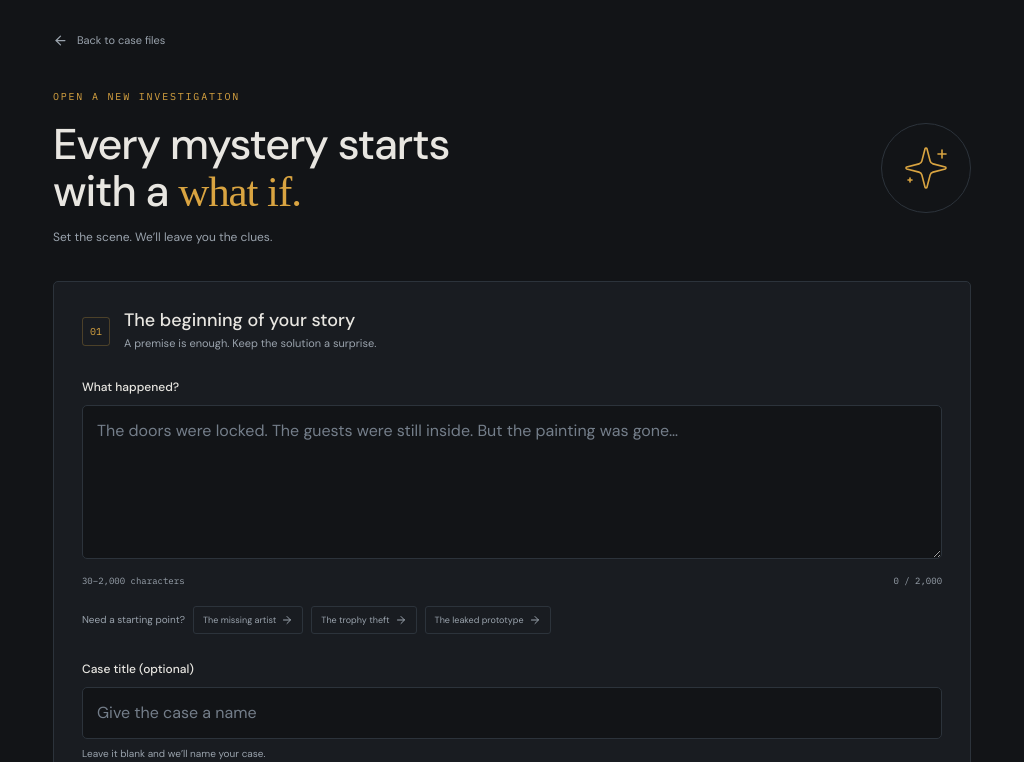
Test case: M3 forms › FR-10 examples populate the scenario and difficulty changes the suspect default
Step 1. Click the button "The missing artist" → (248, 620), box [193, 606, 303, 634]
(page scrolled)
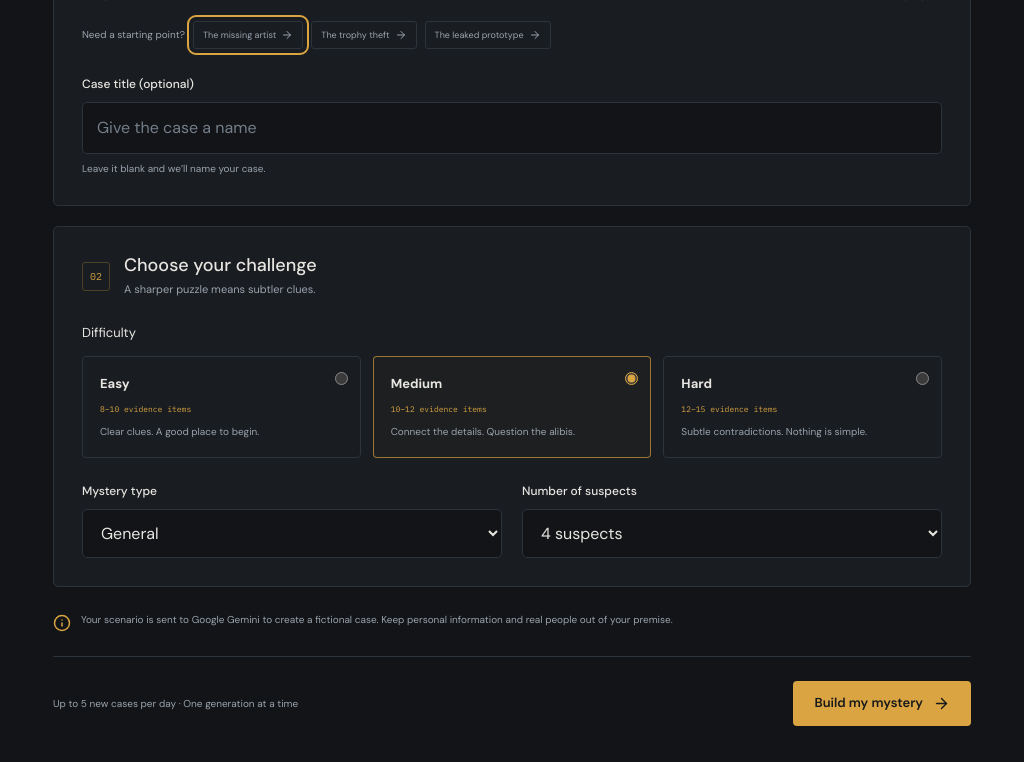
Step 2. Click the radio button labelled "hard" → (923, 379), box [916, 372, 929, 385]
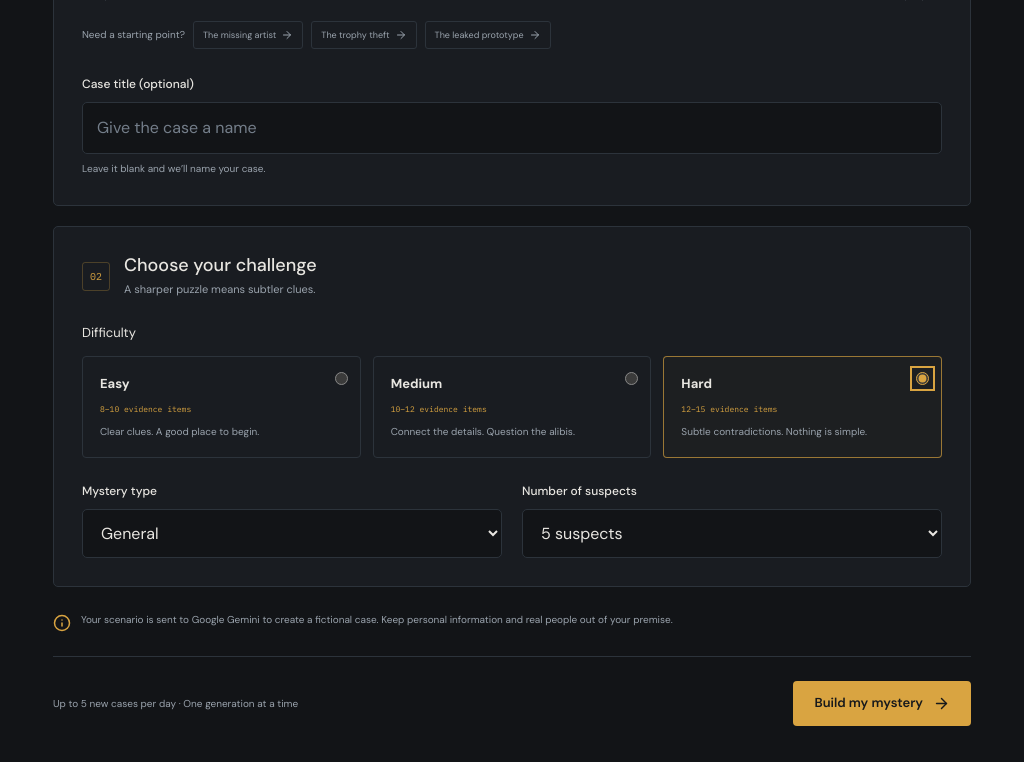
Check: the dropdown labelled "Number of suspects" shows "5 suspects", box [522, 509, 942, 558]
